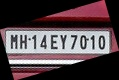character: (18, 33, 27, 49), (39, 33, 47, 49), (50, 33, 58, 49), (59, 33, 67, 49), (97, 34, 105, 50), (9, 33, 17, 48), (69, 34, 77, 49), (79, 34, 87, 49), (31, 34, 37, 49), (90, 33, 95, 50)
